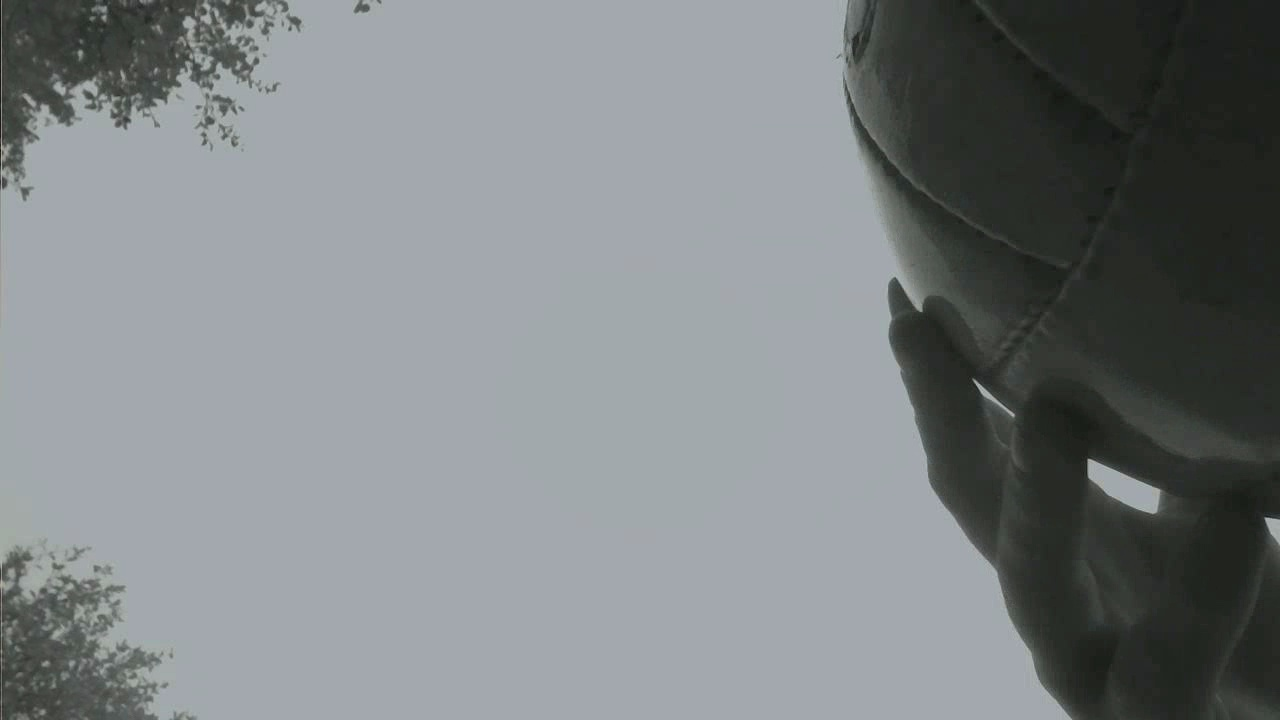Football-Spotter: (844, 0, 1279, 517)
